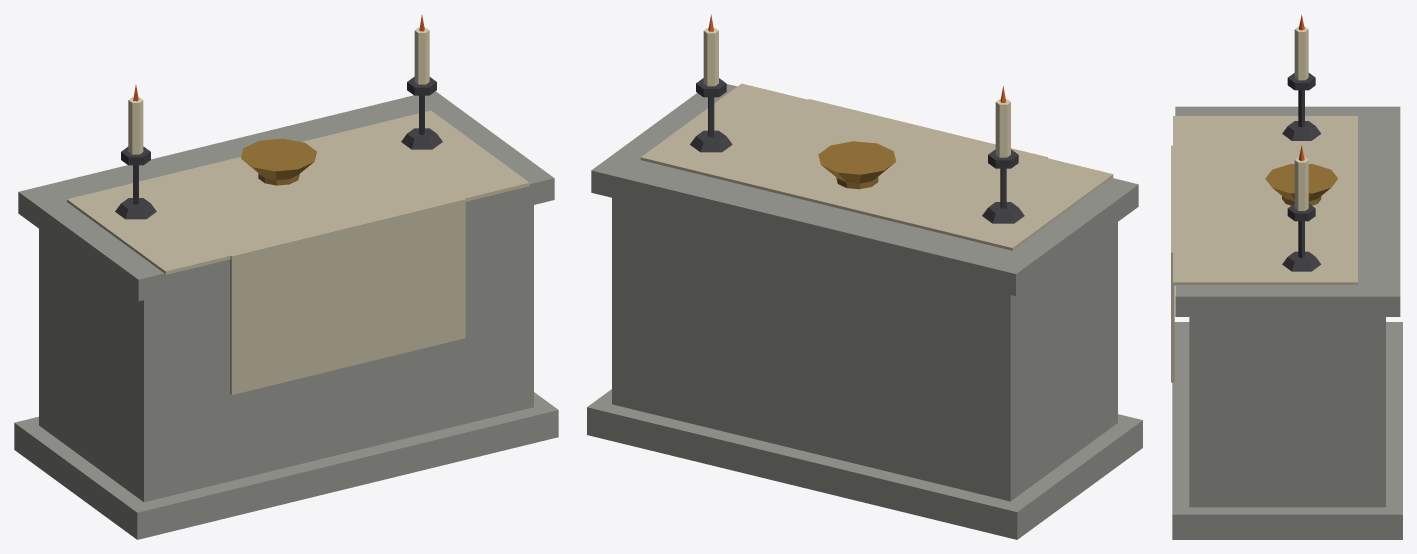
The model's file is Altar.fbx.
3 renders of one model, left to right at view 1: azimuth 30°, elevation 25°; view 2: azimuth 150°, elevation 25°; view 3: azimuth 270°, elevation 25°, orthographic. The views are drawn at different scales.
Visible parts, largest first — view 1: Altar; view 2: Altar; view 3: Altar.
Boxes of the visible parts, x1=… form: Altar: x1=14, y1=15, x2=558, y2=539; Altar: x1=587, y1=14, x2=1142, y2=539; Altar: x1=1171, y1=14, x2=1402, y2=539.
Size of the model in its own units: 1.62 by 1.43 by 0.825.
